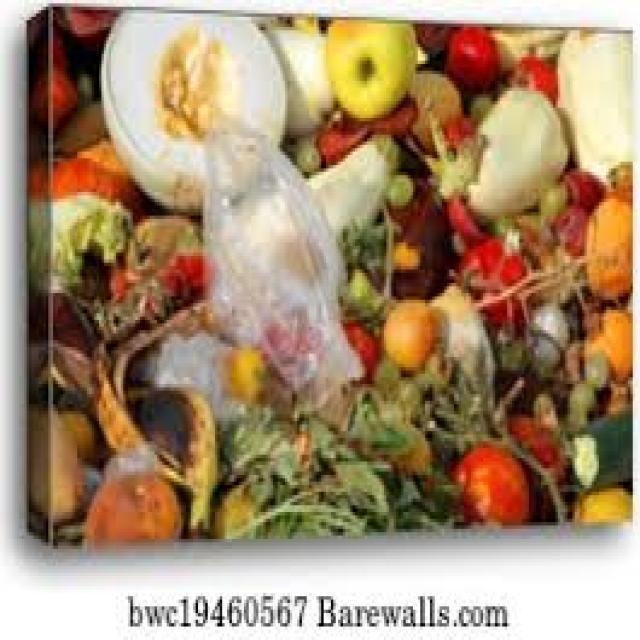biodegradable: (27, 300, 215, 532), (94, 7, 285, 209), (217, 387, 464, 529), (461, 81, 565, 215), (553, 24, 628, 175), (27, 192, 128, 300), (280, 91, 418, 168), (425, 276, 495, 418), (99, 206, 205, 297), (302, 131, 398, 226), (324, 17, 416, 114), (259, 24, 338, 132), (29, 401, 97, 519), (389, 172, 449, 293), (502, 408, 565, 519), (447, 442, 526, 526), (80, 465, 179, 532), (452, 236, 527, 323), (29, 155, 135, 216), (312, 91, 413, 155), (437, 27, 565, 74), (418, 101, 478, 192), (377, 293, 440, 371), (570, 411, 628, 488), (585, 199, 631, 296), (147, 236, 203, 313), (578, 303, 631, 384), (341, 216, 391, 290), (519, 306, 568, 374), (343, 307, 384, 388), (44, 293, 97, 354), (210, 475, 263, 536), (29, 67, 77, 128), (437, 182, 488, 239), (529, 246, 582, 300), (507, 47, 558, 101), (333, 263, 379, 317), (570, 485, 628, 522), (222, 347, 263, 397), (384, 374, 423, 424), (551, 202, 589, 253), (558, 168, 599, 209), (577, 347, 609, 397), (517, 209, 551, 253), (413, 20, 461, 51), (491, 323, 527, 364), (561, 381, 597, 421), (536, 175, 570, 216), (36, 30, 68, 71), (367, 350, 399, 391), (78, 131, 119, 162), (418, 340, 449, 381), (560, 337, 587, 384), (379, 165, 413, 202), (488, 216, 526, 249), (532, 388, 561, 425), (560, 287, 582, 334), (601, 159, 628, 196), (384, 242, 415, 273), (597, 381, 631, 408), (68, 68, 92, 105), (464, 88, 488, 111), (287, 14, 319, 31)
